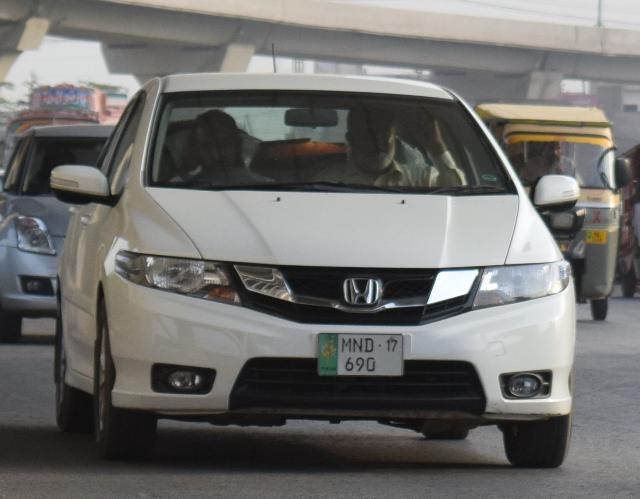plate: (318, 333, 402, 377)
